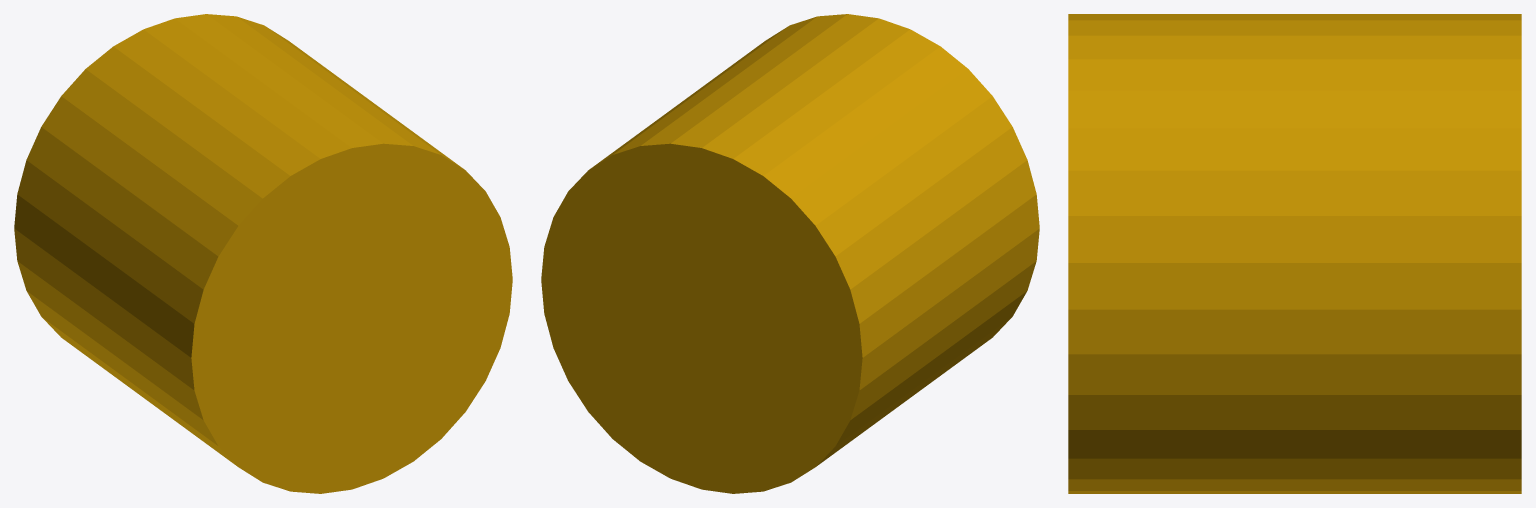
The model's file is pineappleCanYellow.obj.
3 views of the same model, side by side, from view 1: azimuth 30°, elevation 25°; view 2: azimuth 150°, elevation 25°; view 3: azimuth 270°, elevation 25° (orthographic). The views are drawn at different scales.
Visible parts, largest first — view 1: YellowCan.001; view 2: YellowCan.001; view 3: YellowCan.001.
Part boxes in pixels (left/top/right/bottom): YellowCan.001: left=14, top=14, right=512, bottom=493; YellowCan.001: left=541, top=14, right=1039, bottom=493; YellowCan.001: left=1068, top=14, right=1521, bottom=493.
Bounding box in the file's own units: 0.2116 × 0.2149 × 0.2021.
